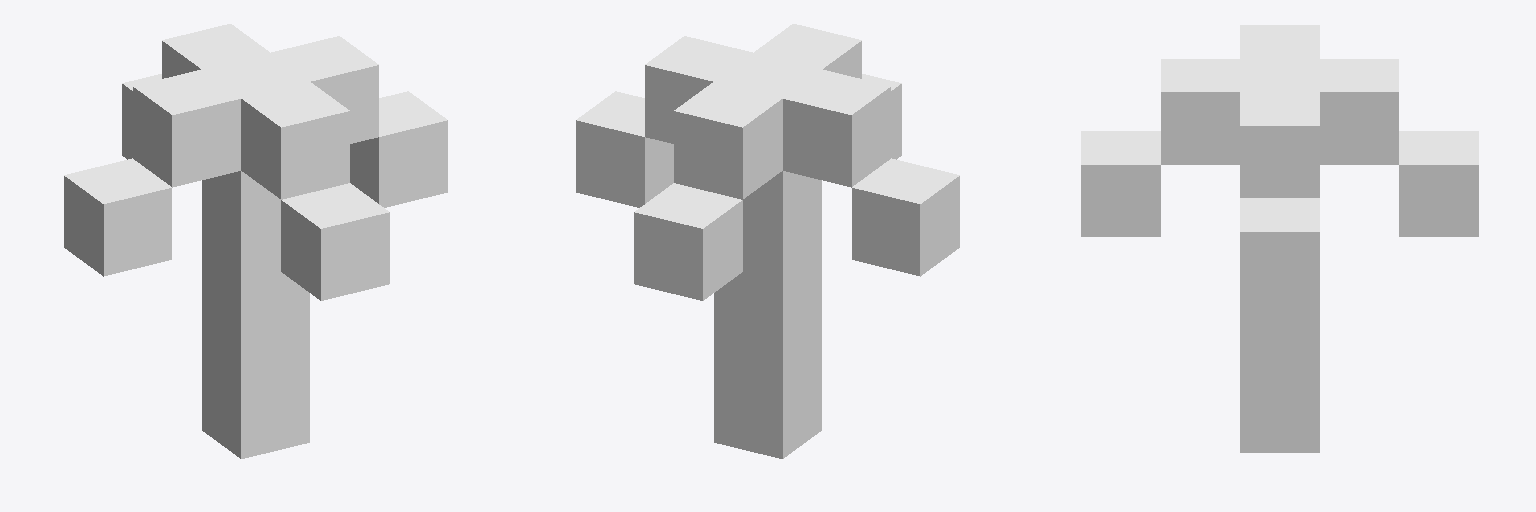
Rendered from overworld-22-props_palmtree.obj.
3 views of the same model, side by side, from view 1: azimuth 30°, elevation 25°; view 2: azimuth 150°, elevation 25°; view 3: azimuth 270°, elevation 25° (orthographic).
Parts seen in each view (by area): view 1: props_palmtree; view 2: props_palmtree; view 3: props_palmtree.
Part boxes in pixels (x1,y1,x2,y2): props_palmtree: (64,24,447,458); props_palmtree: (576,24,959,458); props_palmtree: (1081,25,1478,452).
Size of the model in its own units: 0.5 by 0.5 by 0.5.